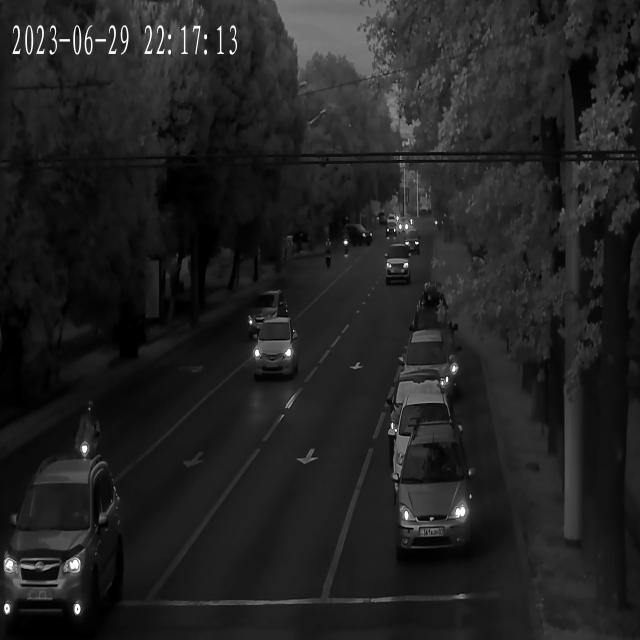Car: (2, 450, 122, 627), (397, 423, 471, 560), (394, 393, 456, 497), (389, 367, 445, 457), (406, 310, 459, 390), (398, 335, 452, 399), (254, 319, 298, 378), (245, 291, 287, 334), (416, 283, 448, 328), (386, 248, 412, 286), (344, 222, 372, 250), (402, 231, 422, 254), (386, 217, 398, 233)
